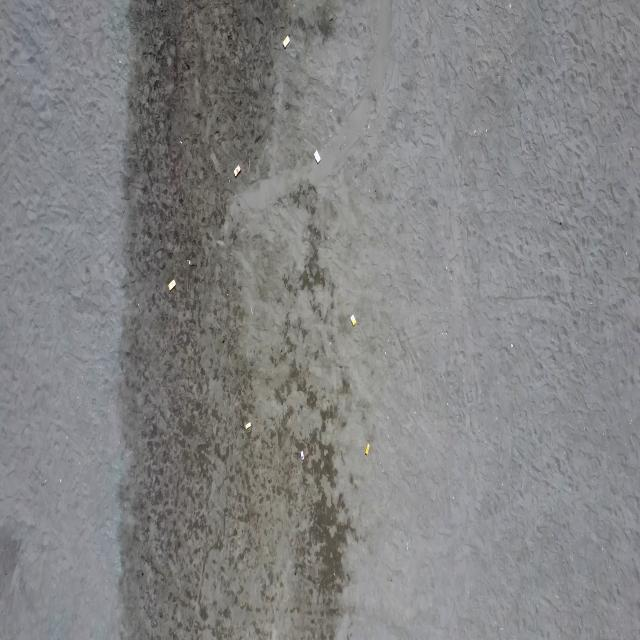Garbage: (313, 148, 320, 163), (281, 35, 288, 48), (233, 163, 240, 176), (167, 280, 175, 289), (243, 422, 251, 430), (187, 259, 195, 266), (364, 442, 368, 455), (351, 314, 355, 326), (300, 449, 303, 460), (188, 259, 189, 264)
